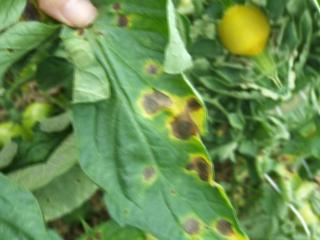Tomato Early blight leaf: (18, 0, 309, 240)
